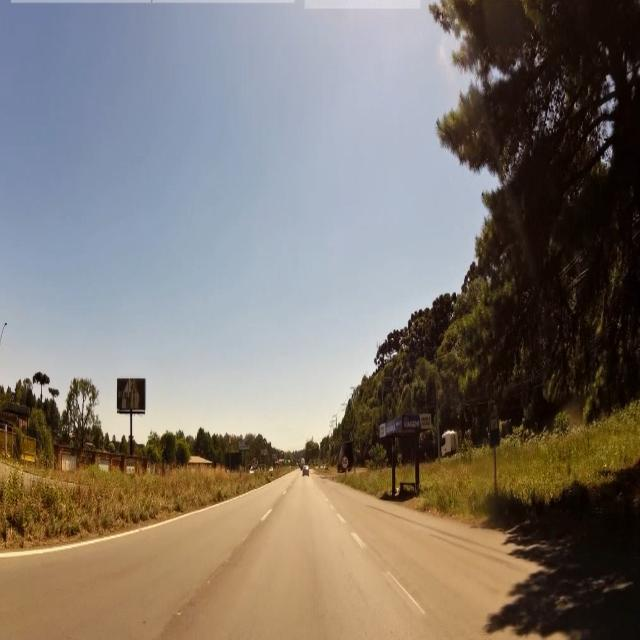S-14: (488, 404, 498, 448)
